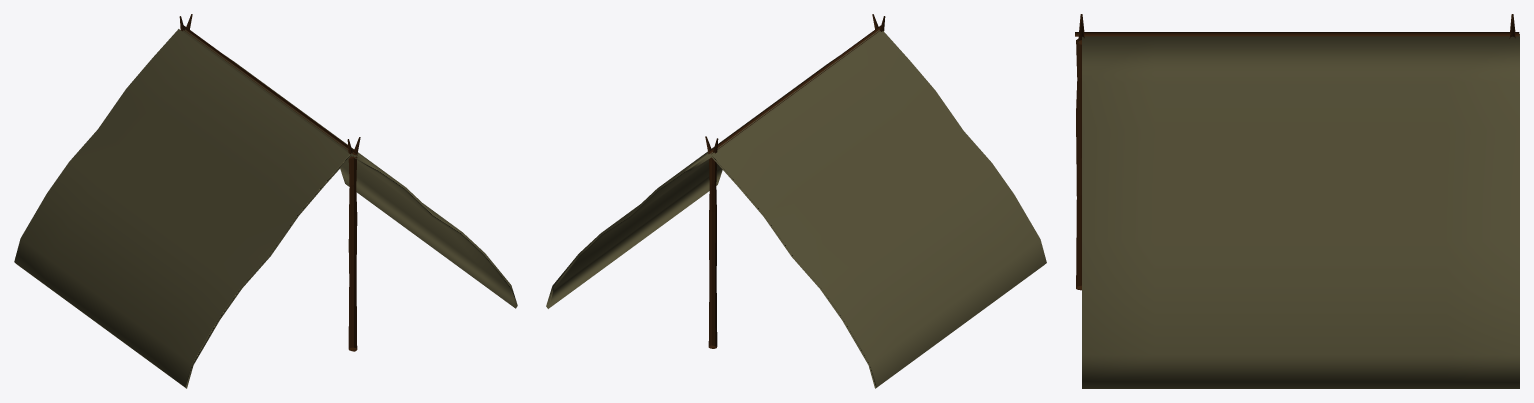
Rendered from S_Tent_1.fbx.
The picture shows the model from 3 angles, left to right: view 1: azimuth 30°, elevation 25°; view 2: azimuth 150°, elevation 25°; view 3: azimuth 270°, elevation 25°; orthographic projection. The views are drawn at different scales.
Visible parts, largest first — view 1: Cube.001; view 2: Cube.001; view 3: Cube.001.
Part boxes in pixels (box(x1,y1,x2,y2)): Cube.001: box(14, 14, 517, 388); Cube.001: box(546, 14, 1046, 388); Cube.001: box(1075, 14, 1519, 388).
Size of the model in its own units: 348 by 212 by 314.
